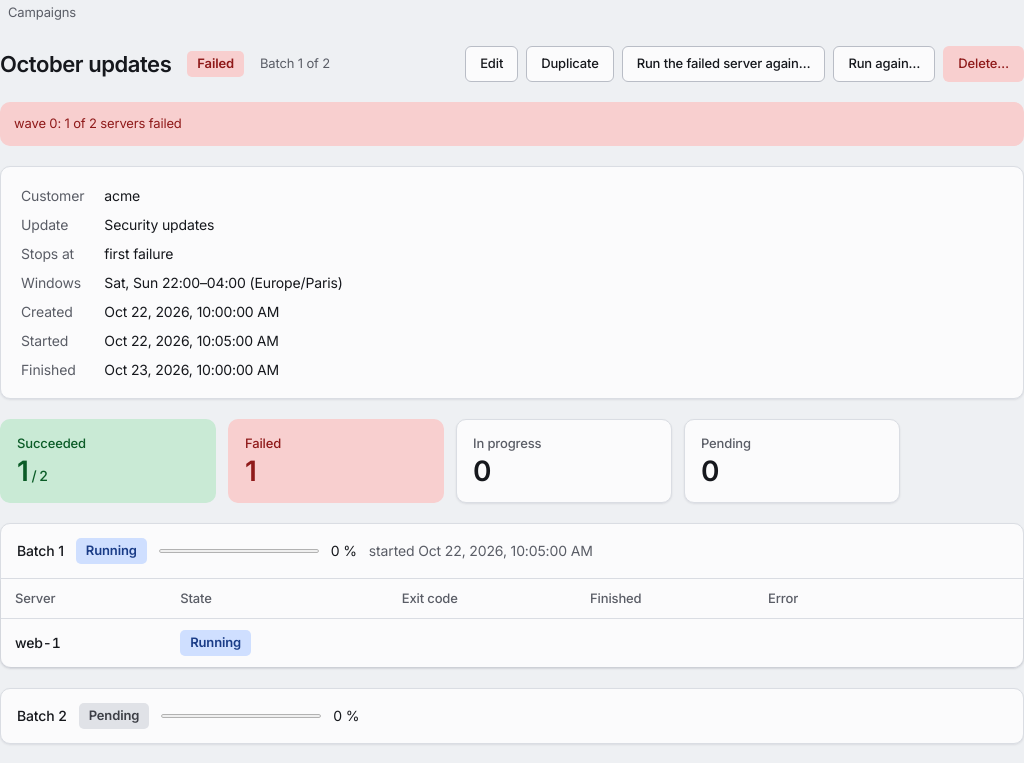
Test: CampaignPage › runs the failed servers again after confirmation and lists the earlier runs
Click the button "Run the failed server again…": (724, 64) [622,46,825,82]
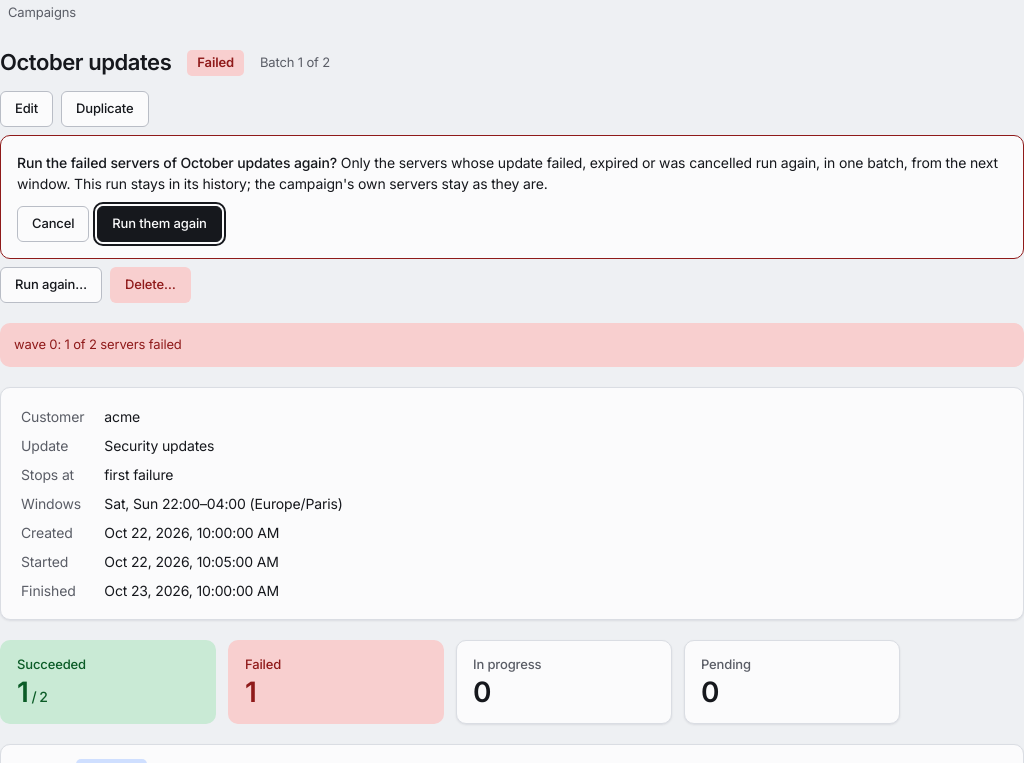
expect the text "Only the servers whose update failed" is shown: met, box [17,154,998,192]
Click the button "Run them again": (160, 224) [97,206,222,242]
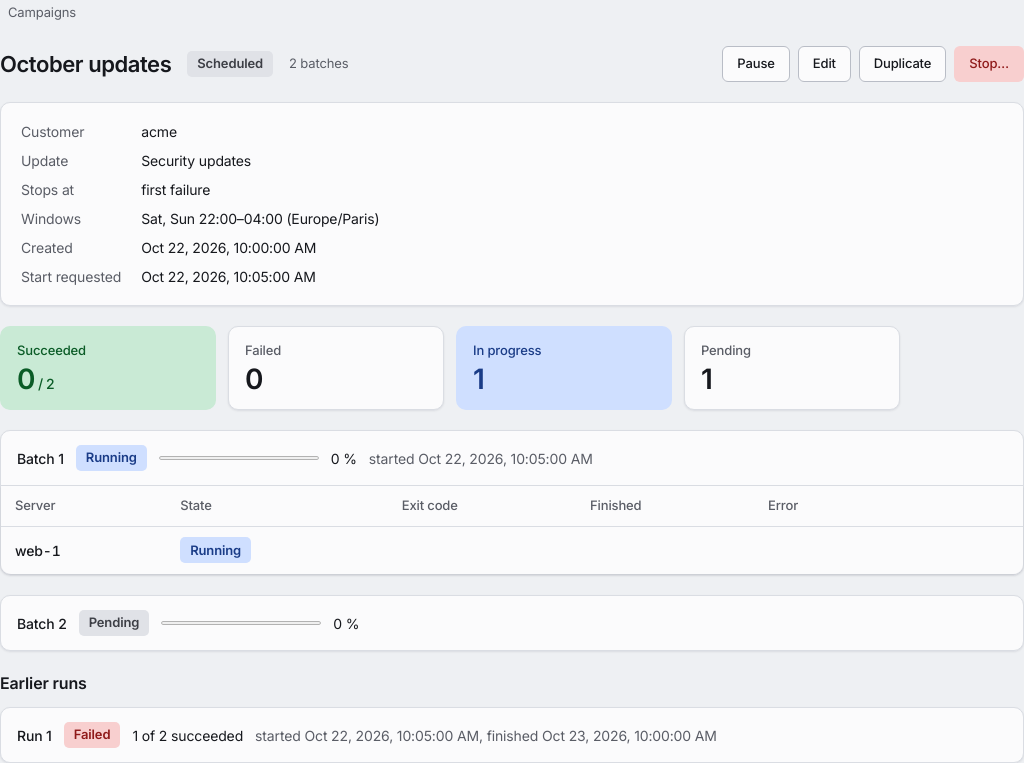
expect the text "Run 1" is shown: met, box [17,724,52,746]
expect the text "1 of 2 succeeded" is shown: met, box [132,724,243,746]
